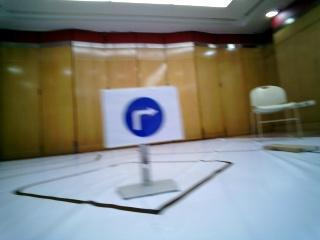right: (102, 91, 182, 138)
